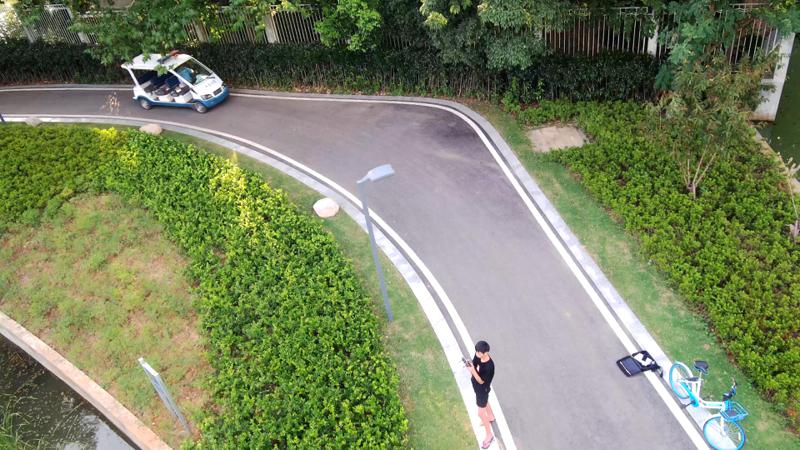passerby: (461, 339, 496, 450)
